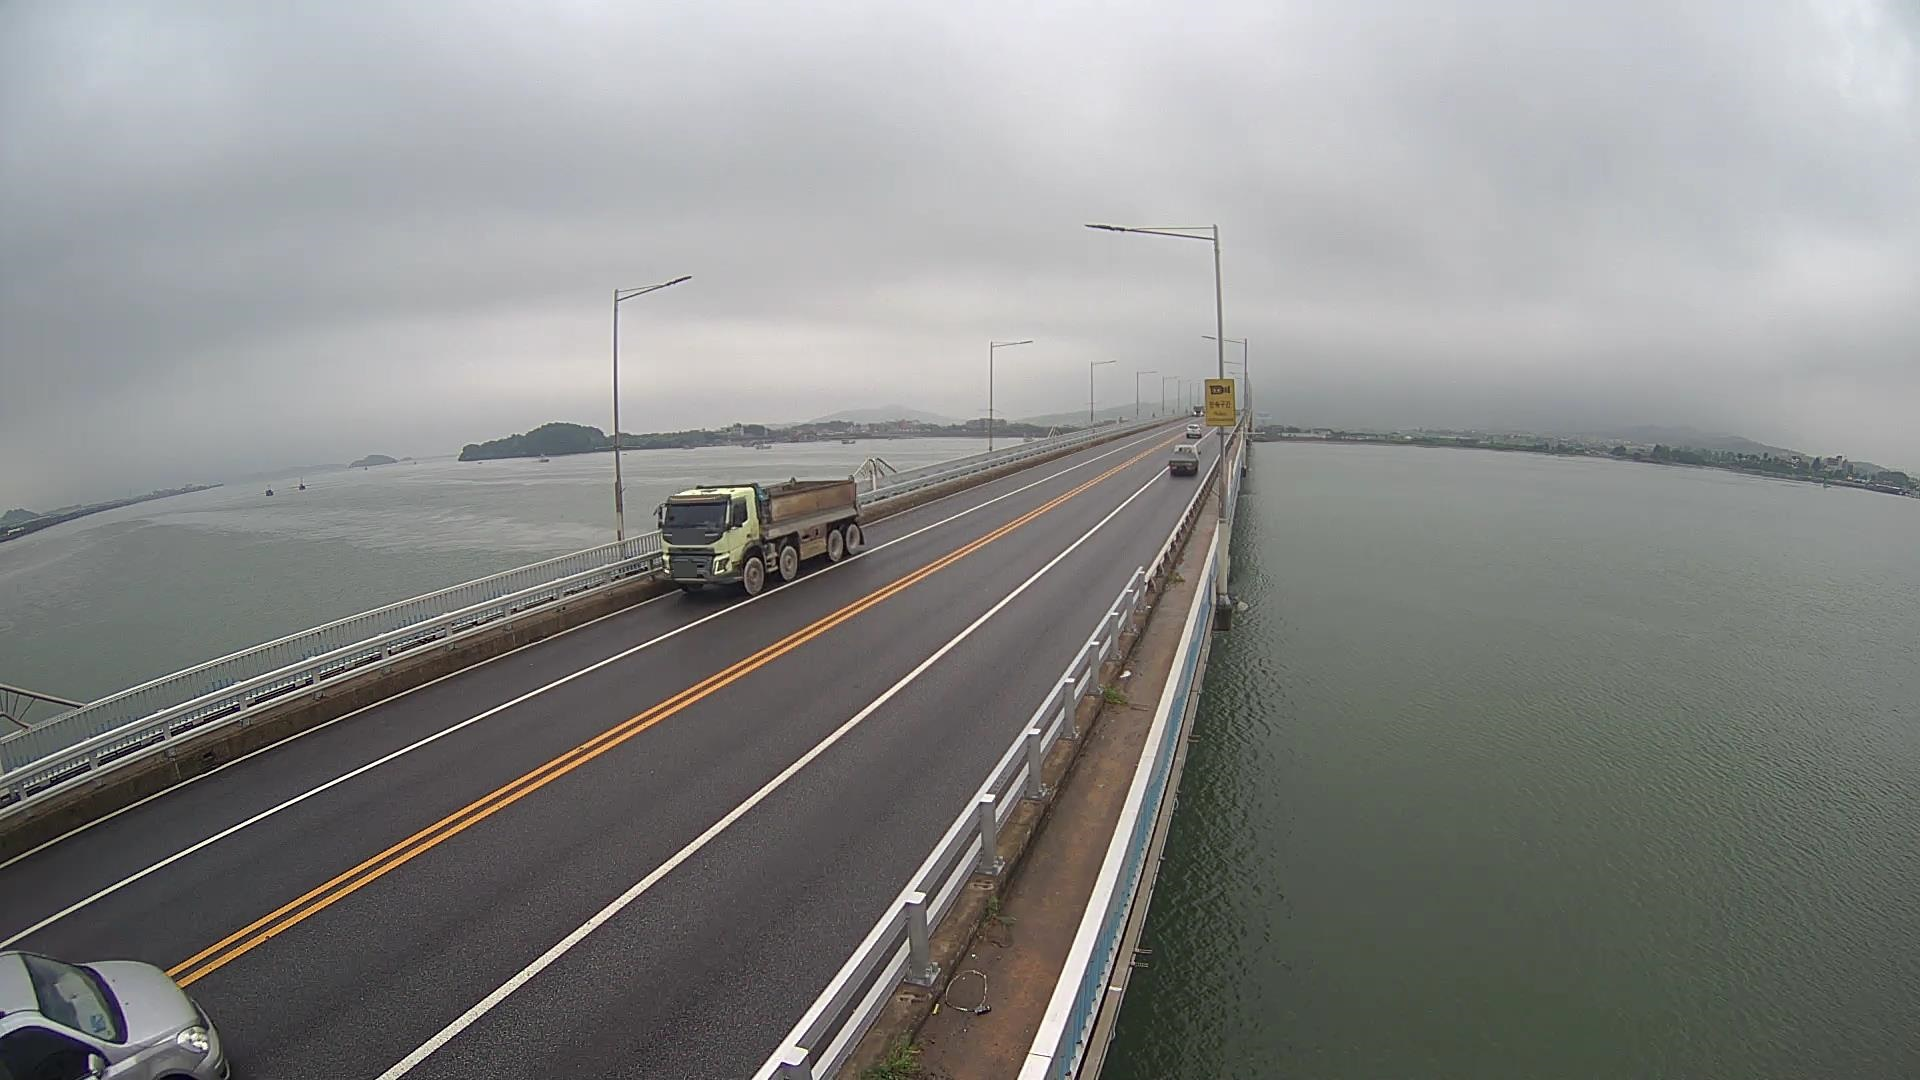정상차량: (651, 473, 869, 599)
